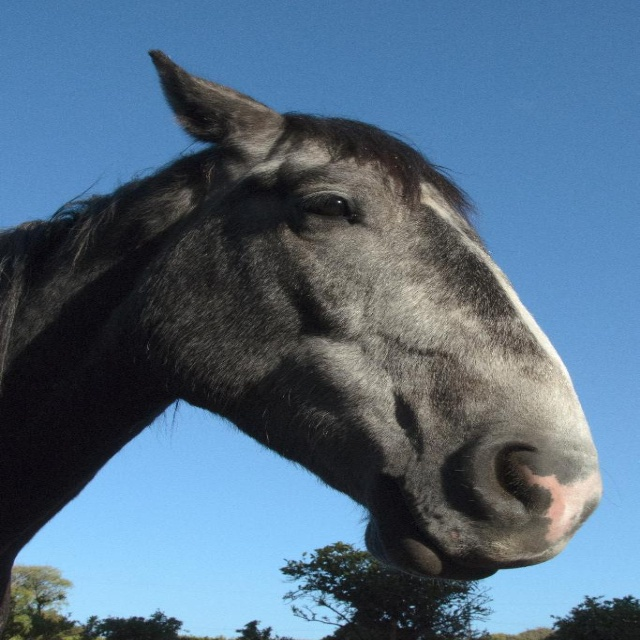Horse: (0, 49, 606, 640)
